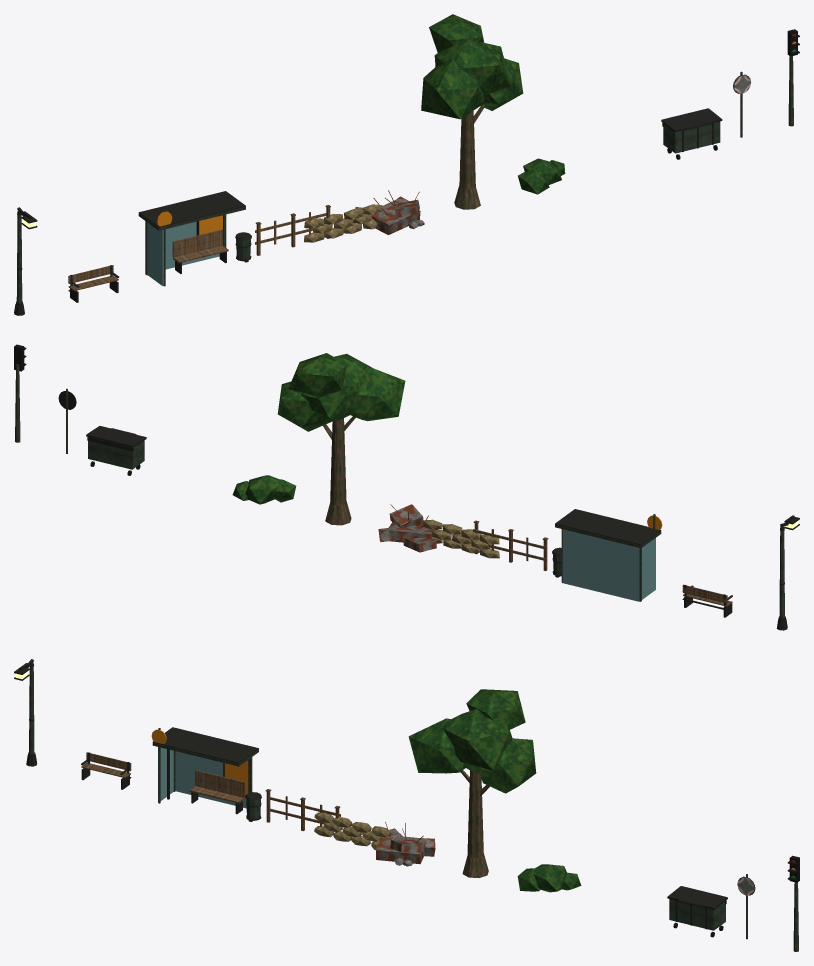
File: straatmeubilair.glb
3 renders of one model, top to bottom at view 1: azimuth 30°, elevation 25°; view 2: azimuth 150°, elevation 25°; view 3: azimuth 330°, elevation 25°, orthographic.
Visible parts, largest first — view 1: Boom, Bushokje, Container, Zandzakken, Puin, Struik, Bankje, Hek, Lantaarn, Stoplicht; view 2: Boom, Bushokje, Container, Puin, Zandzakken, Struik, Hek, Bankje, Lantaarn, Stoplicht; view 3: Boom, Bushokje, Container, Puin, Zandzakken, Struik, Bankje, Lantaarn, Hek, Stoplicht.
Boxes of the visible parts, x1,y1,x2,y2 form: Boom: (421, 14, 523, 209); Bushokje: (138, 191, 245, 286); Container: (661, 108, 722, 159); Zandzakken: (304, 204, 382, 242); Puin: (355, 190, 424, 234); Struik: (518, 158, 565, 194); Bankje: (68, 265, 119, 302); Hek: (255, 205, 330, 255); Lantaarn: (14, 207, 37, 315); Stoplicht: (787, 29, 799, 126); Boom: (277, 353, 405, 525); Bushokje: (555, 509, 662, 601); Container: (86, 426, 146, 475); Puin: (378, 504, 437, 552); Zandzakken: (423, 519, 499, 558); Struik: (232, 475, 296, 504); Hek: (473, 520, 548, 570); Bankje: (682, 584, 732, 617); Lantaarn: (776, 515, 799, 630); Stoplicht: (14, 344, 26, 442); Boom: (408, 689, 536, 877); Bushokje: (151, 727, 258, 814); Container: (667, 886, 727, 937); Puin: (376, 822, 435, 866); Zandzakken: (314, 812, 390, 850); Struik: (517, 864, 581, 892); Bankje: (81, 752, 131, 789); Lantaarn: (14, 659, 36, 766); Hek: (265, 789, 340, 832); Stoplicht: (787, 855, 799, 951).
Size of the model in its own units: 31.35 by 6.73 by 3.75.
15 materials, 7 textured.
